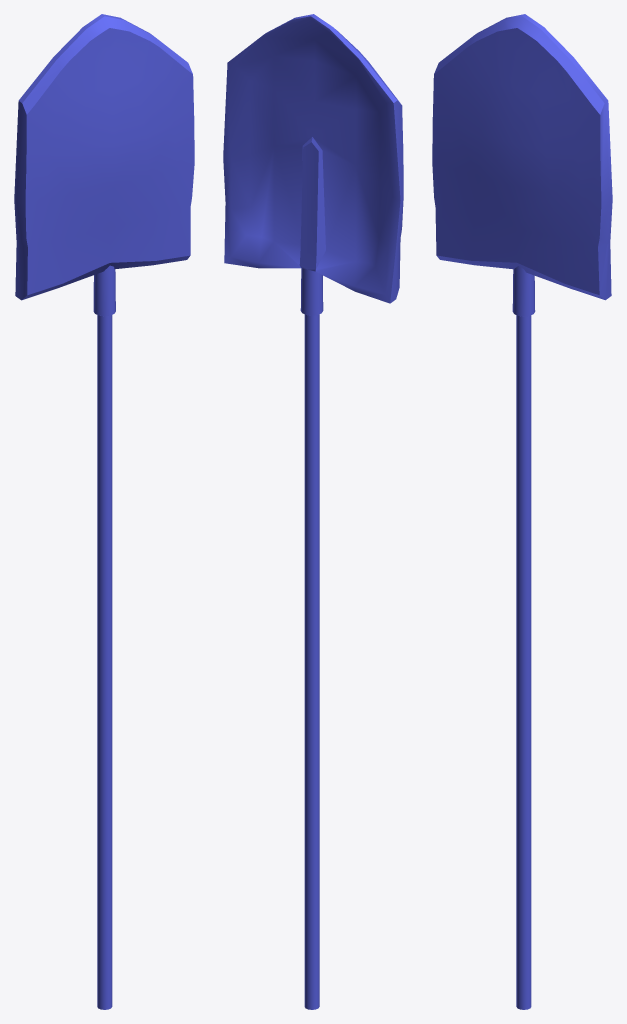
File: Shovel.FBX
The picture shows the model from 3 angles, left to right: view 1: azimuth 30°, elevation 25°; view 2: azimuth 150°, elevation 25°; view 3: azimuth 330°, elevation 25°; orthographic projection.
Visible parts, largest first — view 1: Shovel; view 2: Shovel; view 3: Shovel.
Boxes of the visible parts, <box> form: Shovel: <box>14,14,194,1009</box>; Shovel: <box>223,14,403,1009</box>; Shovel: <box>432,14,612,1009</box>.
Bounding box in the file's own units: 38.68 × 207 × 6.32.
